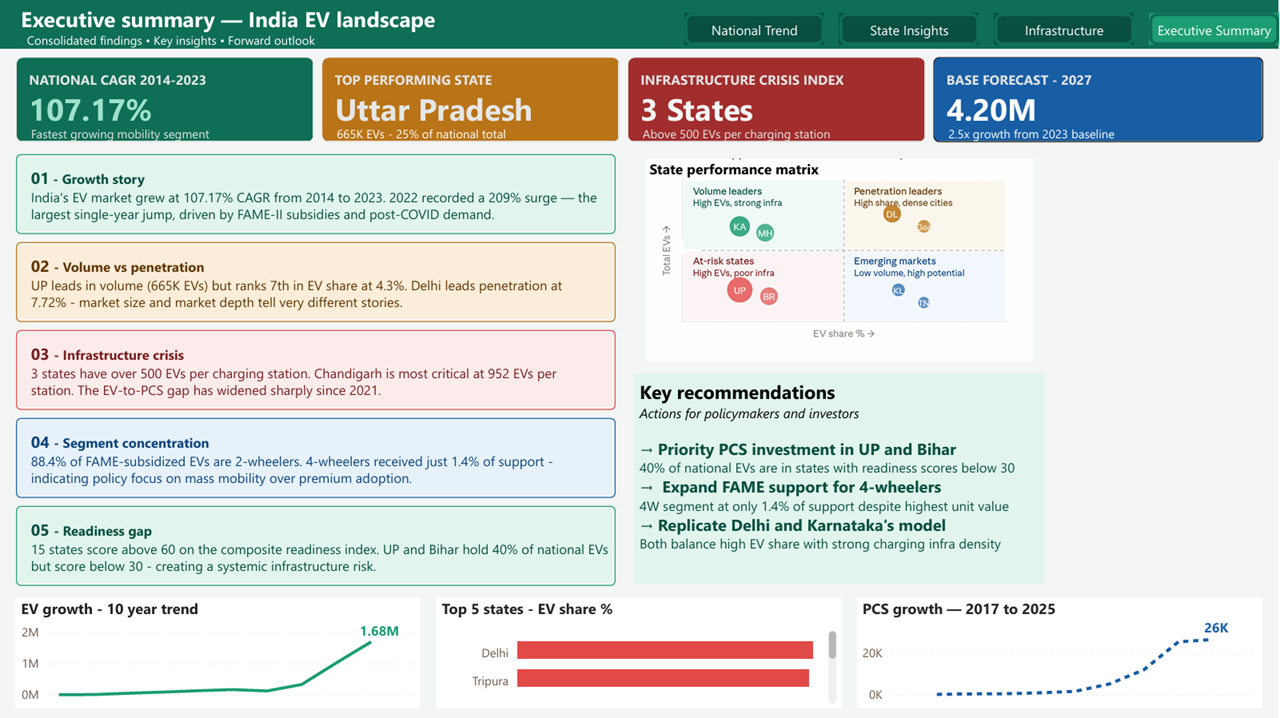

The dashboard page shown, as its layout file describes it:
{"tool":"powerbi","page":{"name":"Executive Summary","canvas":[1280,720],"ordinal":3},"visuals":[{"type":"shape","box":[0,0,1280,50],"z":0},{"type":"textbox","box":[16,0,880,80],"z":1000},{"type":"actionButton","box":[685,14,140,32],"z":2000},{"type":"actionButton","box":[840,14,140,32],"z":3000},{"type":"actionButton","box":[995,14,140,32],"z":4000},{"type":"actionButton","box":[1150,14,130,32],"z":5000},{"type":"cardVisual","fields":{"Data":["Year-wise EV Registrations.EV CAGR %"]},"box":[16,58,298,85],"z":6000},{"type":"textbox","box":[26,120,288,50],"z":7000},{"type":"cardVisual","fields":{"Data":["EV Share %.Top EV State"]},"box":[322,58,298,85],"z":8000},{"type":"cardVisual","fields":{"Data":["EV Share %.Critical Overload States"]},"box":[628,58,298,85],"z":9000},{"type":"textbox","box":[332,120,216,40],"z":10000},{"type":"textbox","box":[638,120,224,48],"z":11000},{"type":"cardVisual","fields":{"Data":["Forecast_Scenarios.Forecast Base 2027"]},"box":[934,58,330,85],"z":12000},{"type":"textbox","box":[944,120,200,32],"z":13000},{"type":"shape","box":[16,155,600,80],"z":14000},{"type":"textbox","box":[26,163,580,80],"z":15000},{"type":"shape","box":[16,243,600,80],"z":16000},{"type":"textbox","box":[26,251,580,72],"z":17000},{"type":"shape","box":[16,331,600,80],"z":18000},{"type":"textbox","box":[26,339,580,75],"z":19000},{"type":"shape","box":[16,419,600,80],"z":20000},{"type":"textbox","box":[26,427,580,72],"z":21000},{"type":"shape","box":[16,507,600,80],"z":22000},{"type":"textbox","box":[26,515,592,80],"z":23000},{"type":"image","box":[512,155,656,208],"z":24000},{"type":"textbox","box":[645,155,624,32],"z":25000},{"type":"textbox","box":[635,375,410,210],"z":26000},{"type":"textbox","box":[22,27,336,48],"z":27000},{"type":"lineChart","title":"EV growth - 10 year trend","fields":{"Category":["Year-wise EV Registrations.Year"],"Y":["Year-wise EV Registrations.Total EVs"]},"box":[16,599,405,111],"z":28000},{"type":"clusteredBarChart","title":"Top 5 states - EV share %","fields":{"Category":["EV Share %.State"],"Y":["Sum(EV Share %.EV_Share_Percent)"]},"box":[437,599,405,111],"z":29000},{"type":"lineChart","title":"PCS growth — 2017 to 2025","fields":{"Category":["Year-wise EVPCS.Year"],"Y":["Sum(Year-wise EVPCS.PCS_Total)"]},"box":[858,599,405,111],"z":30000},{"type":"textbox","box":[1200,615,80,48],"z":31000},{"type":"textbox","box":[355,618,80,48],"z":32000}]}

Visuals, with their boxes in screenshot pixels (x1, y1, x2, y2), scaled from the page's 1280x720 canvas onto the 1280x718 screenshot:
shape: left=0, top=0, right=1279, bottom=50
textbox: left=16, top=0, right=896, bottom=80
actionButton: left=685, top=14, right=825, bottom=46
actionButton: left=840, top=14, right=980, bottom=46
actionButton: left=995, top=14, right=1135, bottom=46
actionButton: left=1150, top=14, right=1279, bottom=46
cardVisual - Year-wise EV Registrations.EV CAGR %: left=16, top=58, right=314, bottom=143
textbox: left=26, top=120, right=314, bottom=170
cardVisual - EV Share %.Top EV State: left=322, top=58, right=620, bottom=143
cardVisual - EV Share %.Critical Overload States: left=628, top=58, right=926, bottom=143
textbox: left=332, top=120, right=548, bottom=160
textbox: left=638, top=120, right=862, bottom=168
cardVisual - Forecast_Scenarios.Forecast Base 2027: left=934, top=58, right=1264, bottom=143
textbox: left=944, top=120, right=1144, bottom=152
shape: left=16, top=155, right=616, bottom=234
textbox: left=26, top=163, right=606, bottom=242
shape: left=16, top=242, right=616, bottom=322
textbox: left=26, top=250, right=606, bottom=322
shape: left=16, top=330, right=616, bottom=410
textbox: left=26, top=338, right=606, bottom=413
shape: left=16, top=418, right=616, bottom=498
textbox: left=26, top=426, right=606, bottom=498
shape: left=16, top=506, right=616, bottom=585
textbox: left=26, top=514, right=618, bottom=593
image: left=512, top=155, right=1168, bottom=362
textbox: left=645, top=155, right=1269, bottom=186
textbox: left=635, top=374, right=1045, bottom=583
textbox: left=22, top=27, right=358, bottom=75
"EV growth - 10 year trend" lineChart: left=16, top=597, right=421, bottom=708
"Top 5 states - EV share %" clusteredBarChart: left=437, top=597, right=842, bottom=708
"PCS growth — 2017 to 2025" lineChart: left=858, top=597, right=1263, bottom=708
textbox: left=1200, top=613, right=1279, bottom=661
textbox: left=355, top=616, right=435, bottom=664
